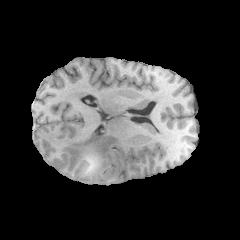glioma: (63, 132, 119, 182)
